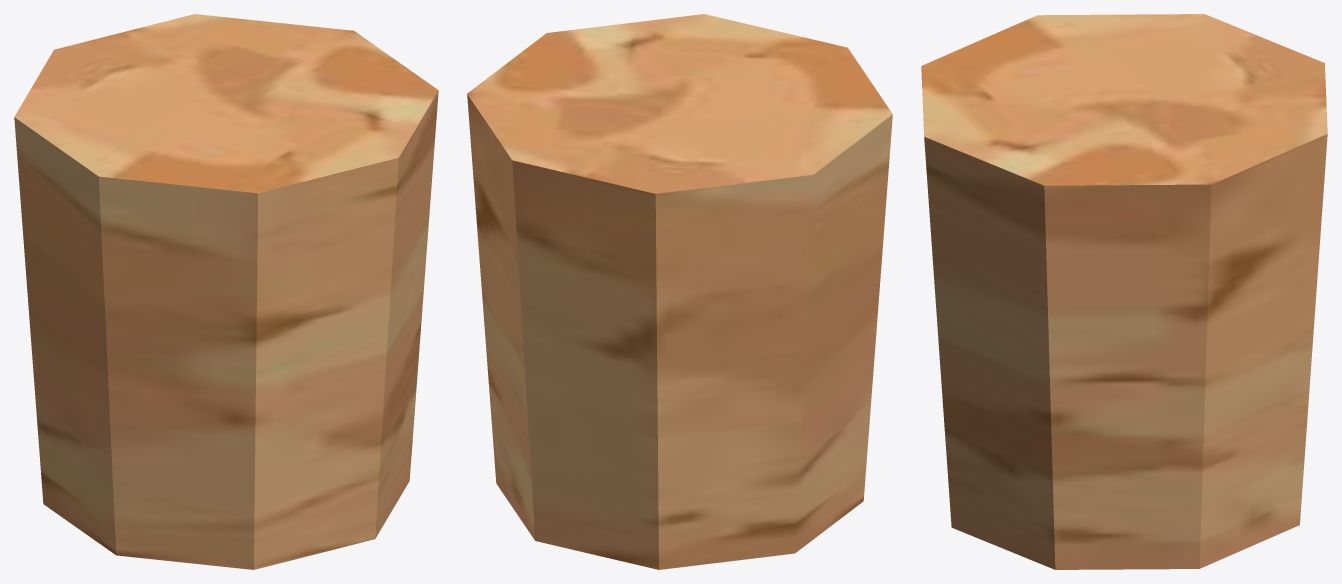
Rendered from cork.fbx.
3 renders of one model, left to right at view 1: azimuth 30°, elevation 25°; view 2: azimuth 150°, elevation 25°; view 3: azimuth 270°, elevation 25°, orthographic.
Parts seen in each view (by area): view 1: polySurface2; view 2: polySurface2; view 3: polySurface2.
Boxes of the visible parts, x1,y1,x2,y2 form: polySurface2: [14, 14, 438, 569]; polySurface2: [467, 14, 892, 569]; polySurface2: [921, 14, 1327, 569].
Size of the model in its own units: 0.7849 by 0.8437 by 0.7849.
